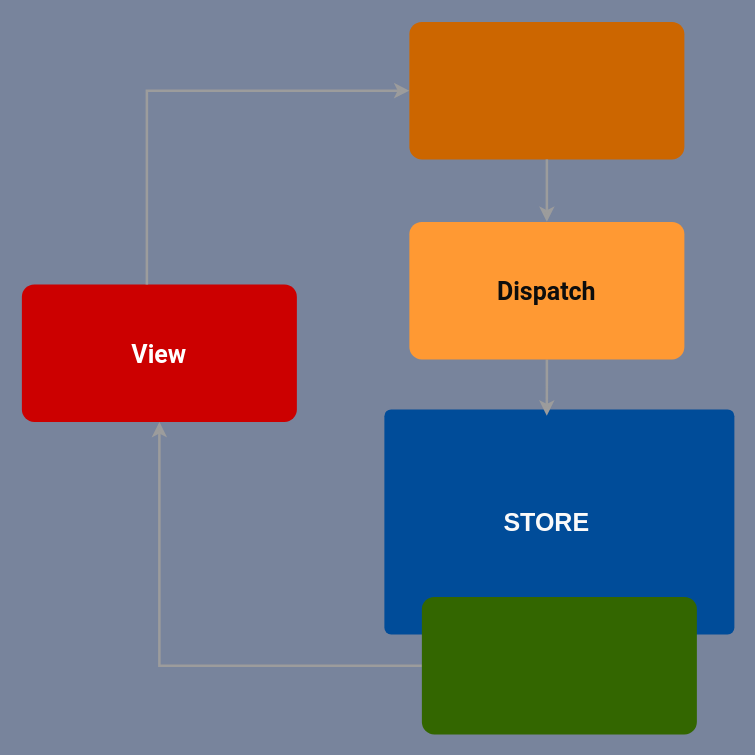
The diagram is 755 pixels wide and 755 high, and some of its shapes have lost their labels. Here are the shapes that lost their labels. From the top down, the box of each, then its label:
(409, 21, 684, 159): Action
(421, 596, 696, 734): State
